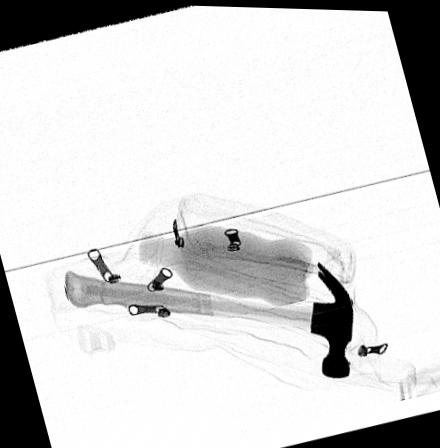Hammer: (65, 260, 355, 377)
